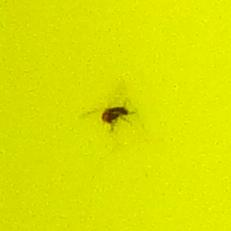Nematocera: (100, 100, 131, 131)
